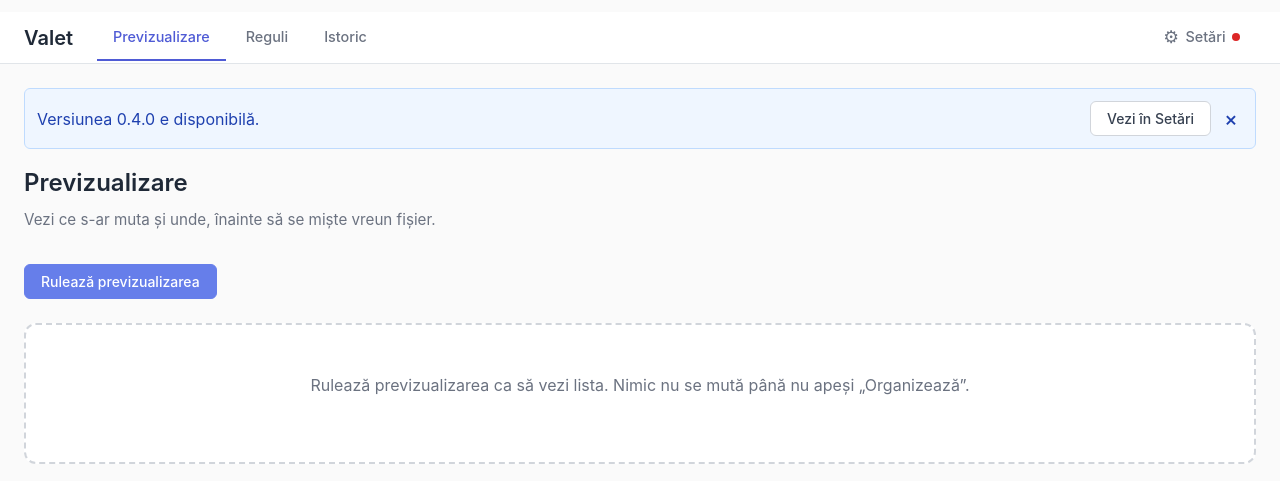
Test: App › marks the Settings button and shows a dismissible note when the daily check finds an update
Expected: the tab "Previzualizare" is shown, [97,14,226,61]
Expected: the picture named "Actualizare disponibilă" is shown, [1232,32,1240,40]
Click the button named "Închide" at [1231, 118], box [1219,106,1243,130]
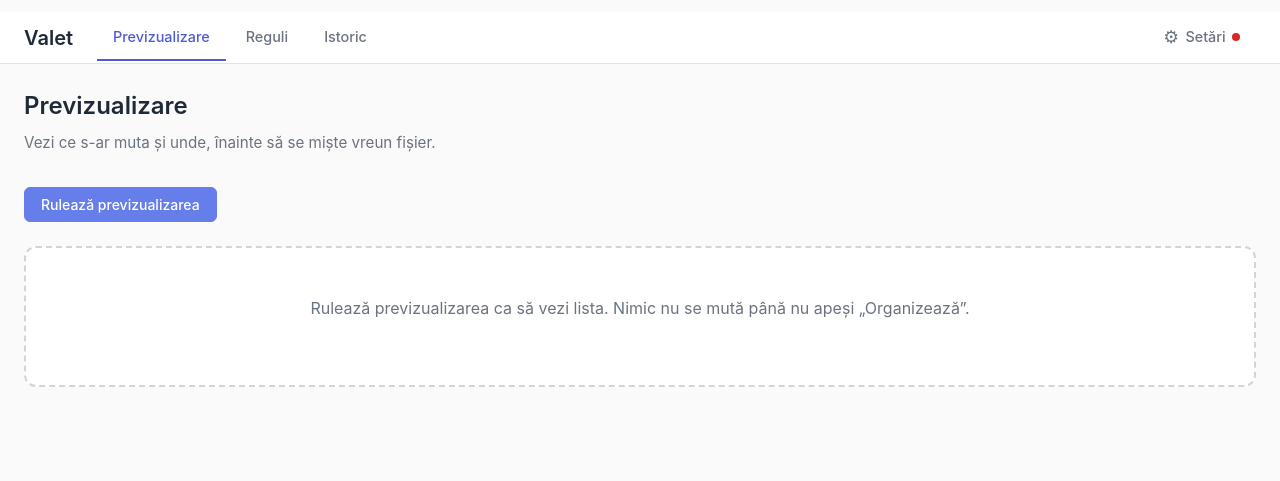
Expected: the picture with test id "nav-settings-badge" is shown, [1232,32,1240,40]
Now the element with test id "update-note" is gone
